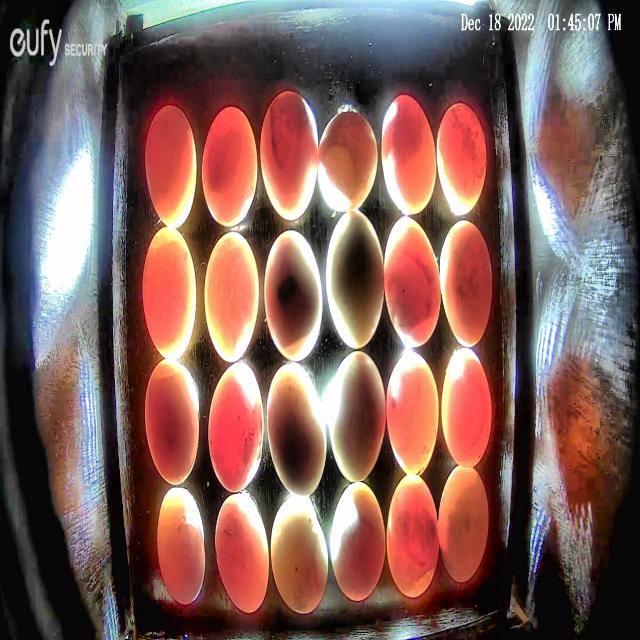DE: (326, 208, 384, 349), (266, 364, 326, 496), (263, 230, 323, 360), (260, 90, 318, 221), (384, 216, 442, 347), (328, 352, 386, 482), (207, 362, 264, 492), (204, 230, 259, 362), (142, 227, 196, 360), (146, 358, 200, 485), (270, 496, 328, 614), (439, 219, 492, 348), (215, 491, 270, 614), (202, 107, 258, 227), (330, 481, 386, 601), (381, 92, 436, 214), (386, 352, 439, 478), (144, 105, 197, 230), (386, 474, 438, 597), (440, 346, 491, 469), (318, 110, 377, 212), (436, 101, 487, 216), (157, 487, 206, 605), (439, 465, 488, 583)
